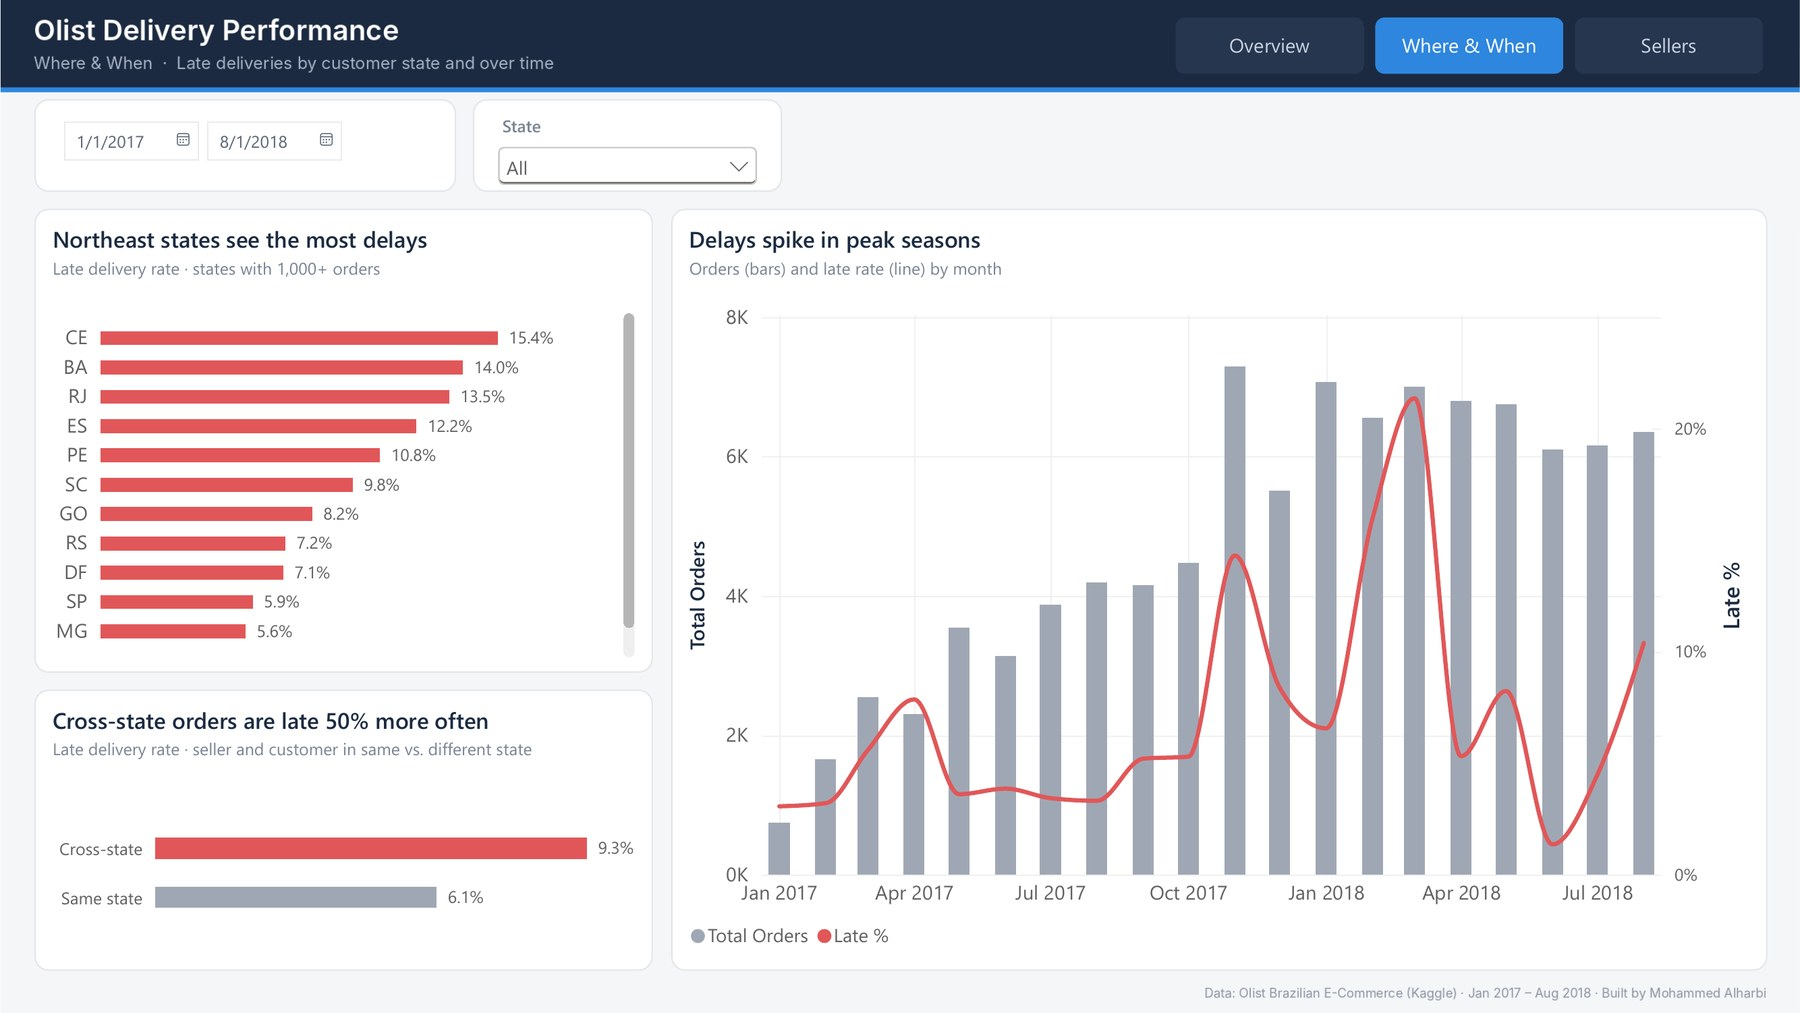

The page's visual inventory and layout, read from the dashboard file:
{"tool":"powerbi","page":{"name":"Where & When","canvas":[1280,720],"ordinal":2},"visuals":[{"type":"pageNavigator","box":[836,12,420,40],"z":0},{"type":"slicer","title":"Order period","fields":{"Values":["orders.Purchase Month"]},"box":[24,70,300,66],"z":1000},{"type":"slicer","fields":{"Values":["customers.customer_state"]},"box":[335.8,70,220,66],"z":2000},{"type":"clusteredBarChart","title":"Northeast states see the most delays","fields":{"Category":["customers.customer_state"],"Y":["orders.Late %"]},"box":[24,148,440,330],"z":3000},{"type":"lineClusteredColumnComboChart","title":"Delays spike in peak seasons","fields":{"Category":["orders.Purchase Month"],"Y":["orders.Total Orders"],"Y2":["orders.Late %"]},"box":[476.6,148.5,780,542],"z":4000},{"type":"clusteredBarChart","title":"Cross-state orders are late 50% more often","fields":{"Category":["orders.Route"],"Y":["orders.Late %"]},"box":[24,490,440,200],"z":5000}]}

Visuals, with their boxes in screenshot pixels (x1, y1, x2, y2), scaled from the page's 1280x720 canvas onto the 1800x1013 screenshot:
pageNavigator: bbox=(1176, 17, 1766, 73)
"Order period" slicer: bbox=(34, 98, 456, 191)
slicer - customers.customer_state: bbox=(472, 98, 782, 191)
"Northeast states see the most delays" clusteredBarChart: bbox=(34, 208, 652, 673)
"Delays spike in peak seasons" lineClusteredColumnComboChart: bbox=(670, 209, 1767, 971)
"Cross-state orders are late 50% more often" clusteredBarChart: bbox=(34, 689, 652, 971)
